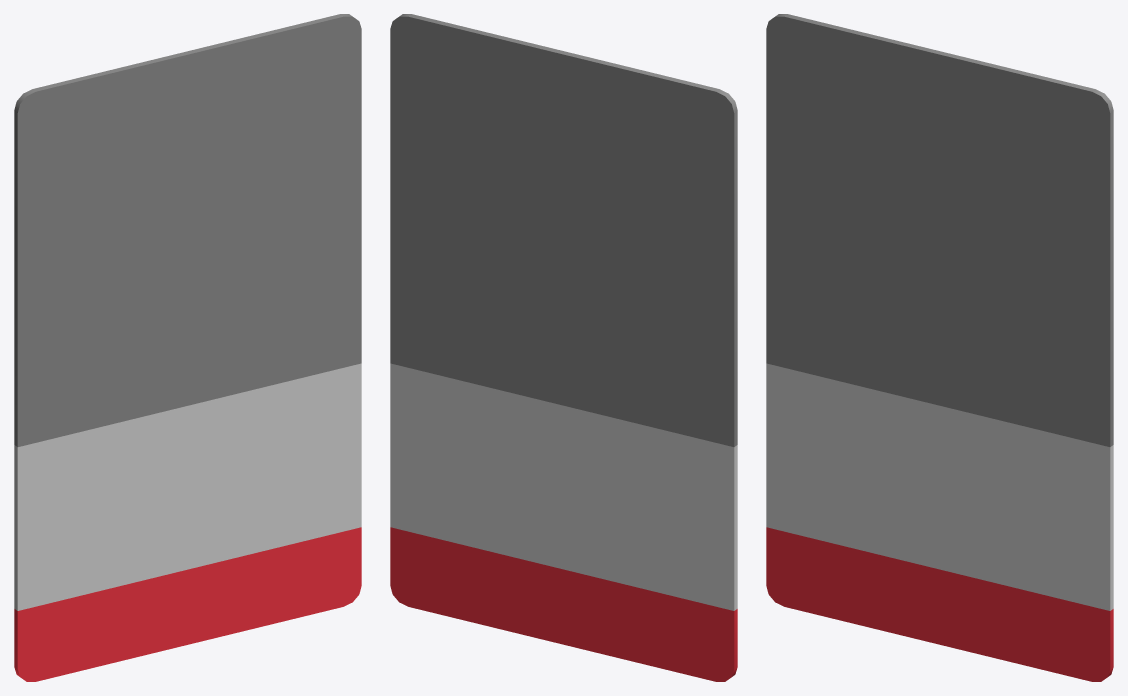
Rendered from wearable_card.glb.
The picture shows the model from 3 angles, left to right: view 1: azimuth 30°, elevation 25°; view 2: azimuth 150°, elevation 25°; view 3: azimuth 330°, elevation 25°; orthographic projection.
Visible parts, largest first — view 1: wearable_card; view 2: wearable_card; view 3: wearable_card.
Boxes of the visible parts, bbox=[...] form: wearable_card: bbox=[14, 14, 361, 681]; wearable_card: bbox=[390, 14, 737, 681]; wearable_card: bbox=[766, 14, 1113, 681].
Bounding box in the file's own units: 1.04 × 1.71 × 0.0187.
1 material, 1 textured.
